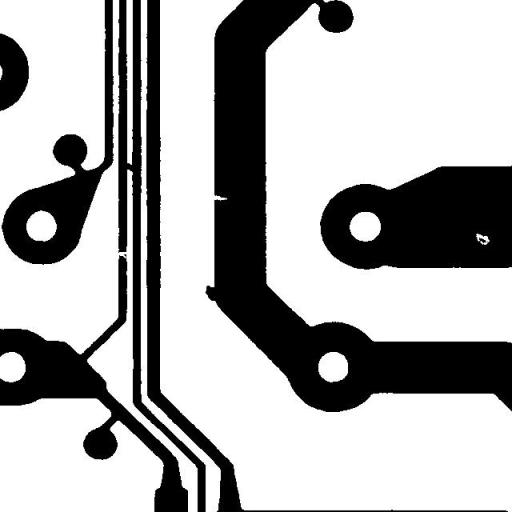mousebite: (202, 186, 234, 208)
open: (107, 244, 135, 266)
pin-hole: (468, 226, 497, 252)
short: (115, 154, 145, 180)
spur: (198, 278, 224, 308)
